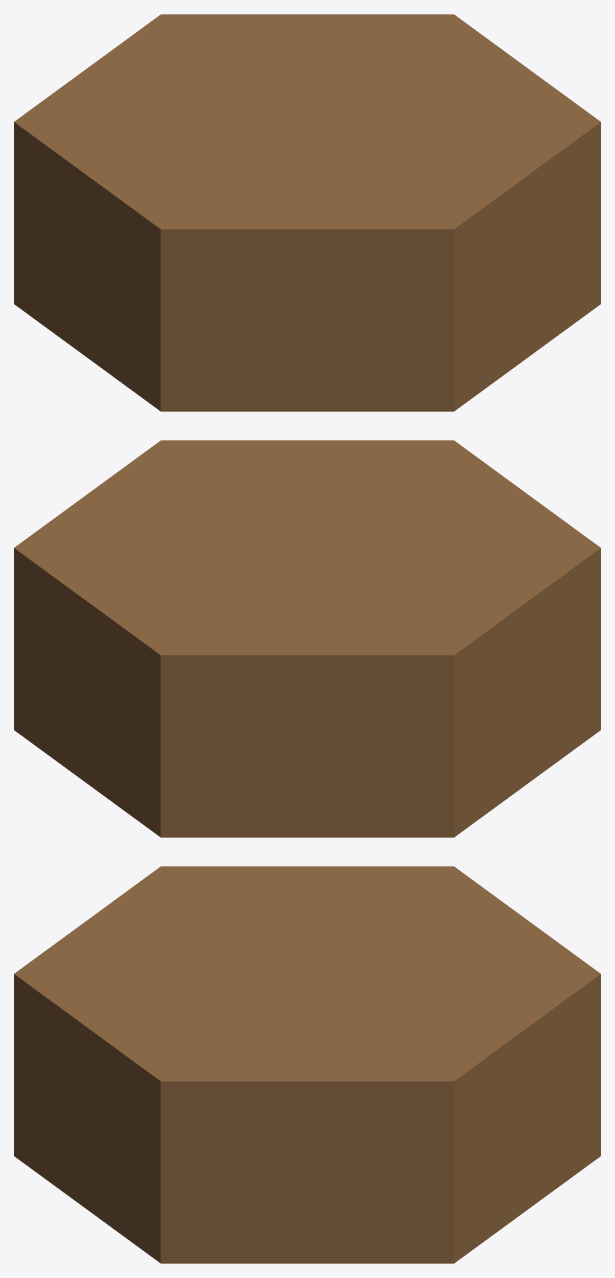
The model's file is RPG_Tiles_Hex_Dirt_01.FBX.
3 renders of one model, top to bottom at view 1: azimuth 30°, elevation 25°; view 2: azimuth 150°, elevation 25°; view 3: azimuth 270°, elevation 25°, orthographic.
Parts seen in each view (by area): view 1: RPG_Tiles_Hex_Dirt_01; view 2: RPG_Tiles_Hex_Dirt_01; view 3: RPG_Tiles_Hex_Dirt_01.
Part boxes in pixels (bbox=[...]): RPG_Tiles_Hex_Dirt_01: bbox=[14, 14, 600, 411]; RPG_Tiles_Hex_Dirt_01: bbox=[14, 440, 600, 837]; RPG_Tiles_Hex_Dirt_01: bbox=[14, 866, 600, 1263].
Size of the model in its own units: 3000 by 1186 by 3464.
